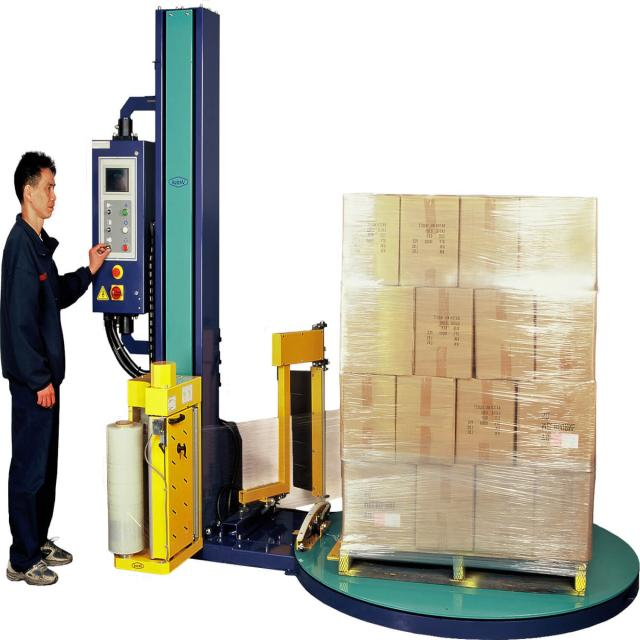cardboxes: (518, 198, 597, 290), (514, 384, 598, 468), (339, 286, 415, 374), (530, 468, 596, 564), (343, 463, 415, 549), (534, 288, 598, 382), (457, 198, 520, 290), (399, 196, 459, 289), (472, 288, 534, 378), (473, 468, 533, 558), (341, 195, 399, 288), (414, 464, 476, 551), (413, 285, 472, 376), (392, 380, 455, 463), (454, 381, 515, 463), (340, 372, 396, 460)
